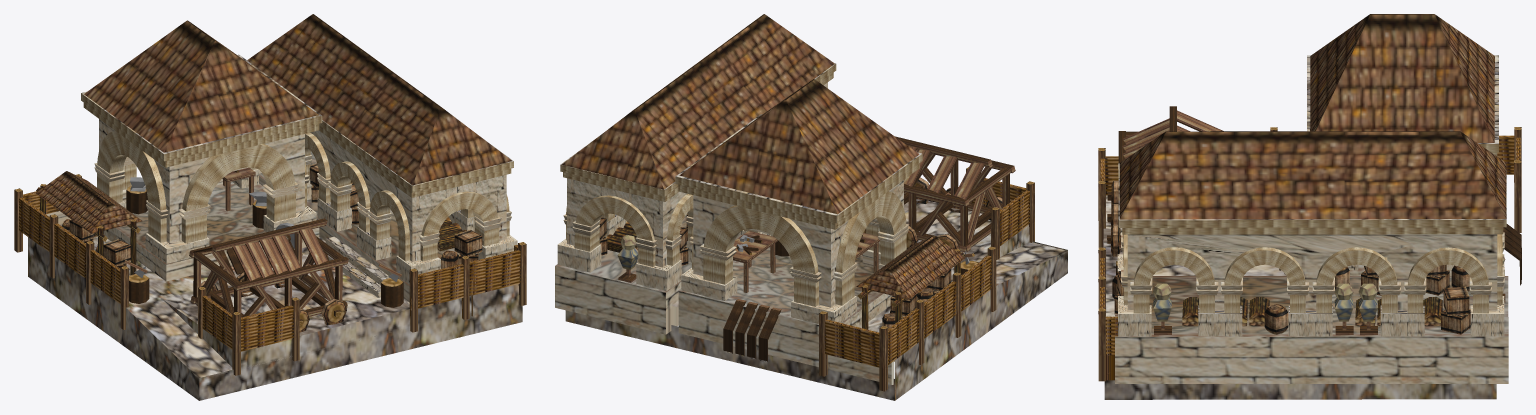
The model's file is arsenal.dae.
The picture shows the model from 3 angles, left to right: view 1: azimuth 30°, elevation 25°; view 2: azimuth 150°, elevation 25°; view 3: azimuth 270°, elevation 25°; orthographic projection. The views are drawn at different scales.
Visible parts, largest first — view 1: arsenal; view 2: arsenal; view 3: arsenal.
Boxes of the visible parts, x1,y1,x2,y2 form: arsenal: [14, 14, 526, 400]; arsenal: [555, 14, 1067, 400]; arsenal: [1098, 14, 1521, 399].
Size of the model in its own units: 25.23 by 24.5 by 17.73.
